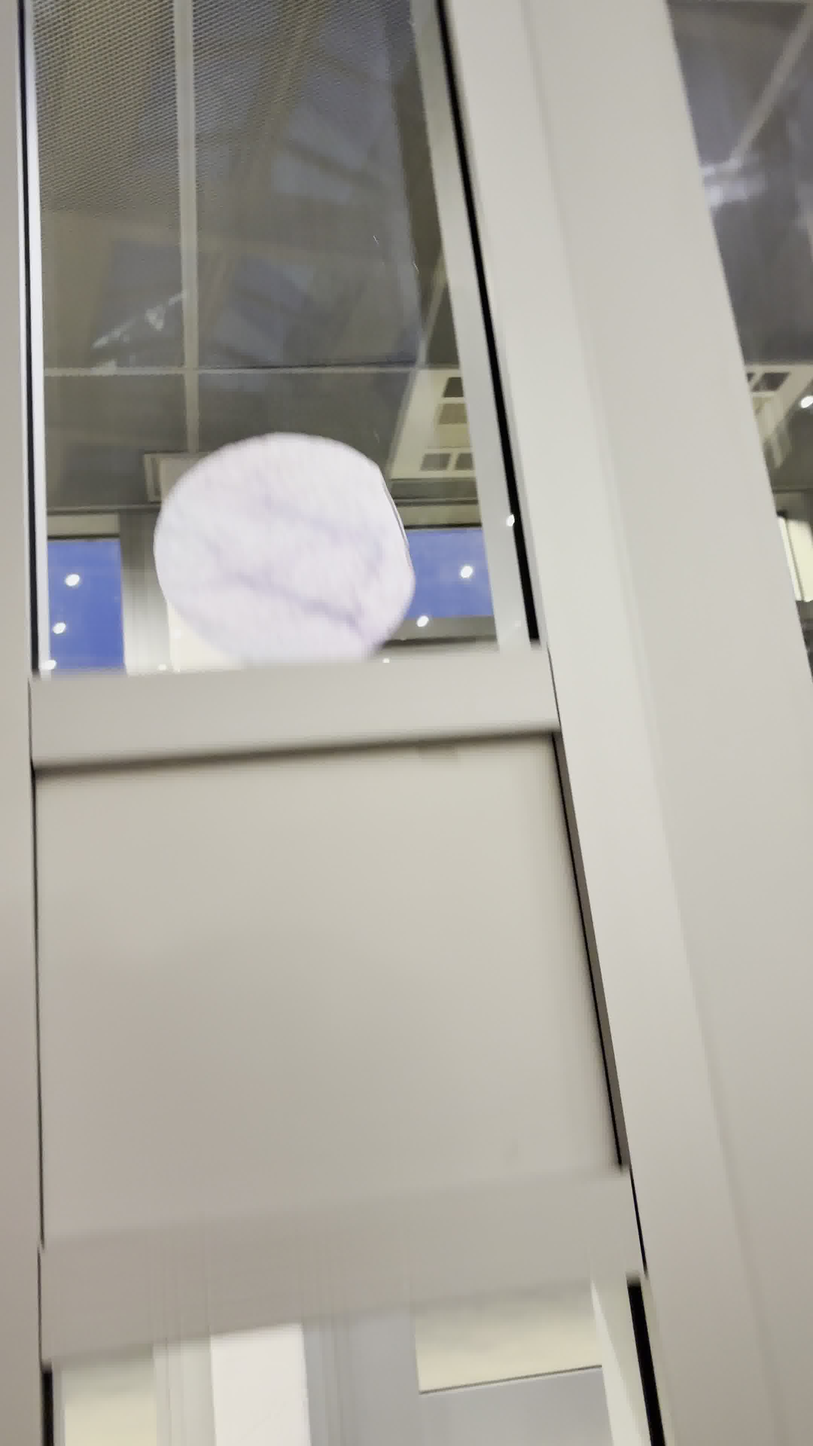Target: (147, 429, 421, 675)
